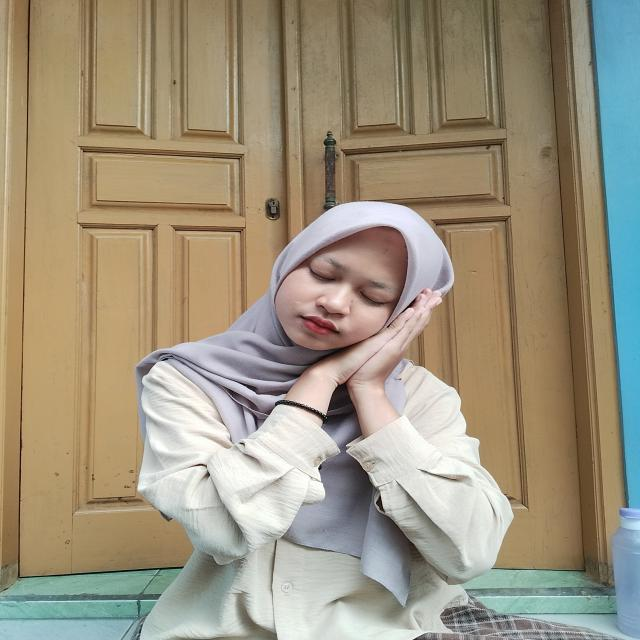tidur: (251, 284, 450, 454)
